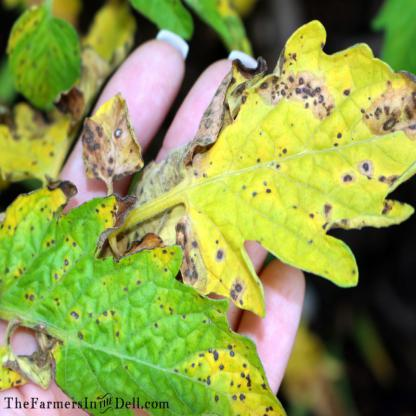tomato septoria leaf spot: (169, 27, 396, 292), (12, 202, 286, 415)
